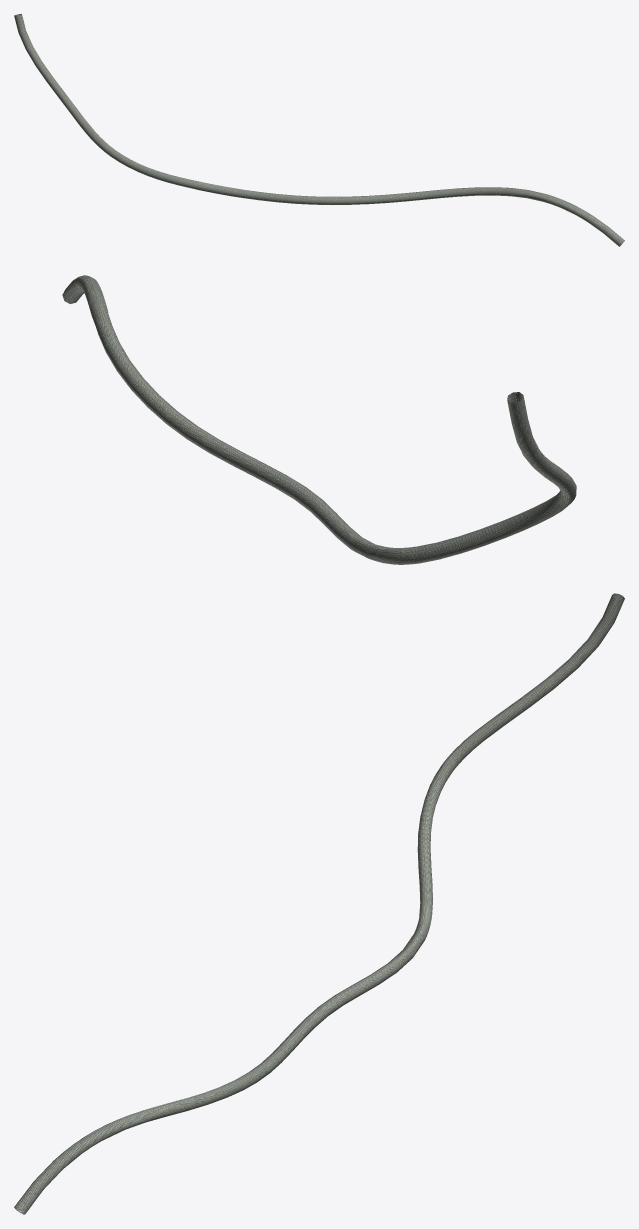
The model's file is microtubule15.fbx.
3 renders of one model, top to bottom at view 1: azimuth 30°, elevation 25°; view 2: azimuth 150°, elevation 25°; view 3: azimuth 270°, elevation 25°, orthographic. The views are drawn at different scales.
Parts seen in each view (by area): view 1: microtubule15; view 2: microtubule15; view 3: microtubule15.
Boxes of the visible parts, box(x1,y1,x2,y2) form: microtubule15: box(14, 14, 624, 246); microtubule15: box(62, 275, 576, 564); microtubule15: box(14, 593, 624, 1214).
Size of the model in its own units: 8474 by 3741 by 6808.
Materials: 1 (1 with a texture image).
